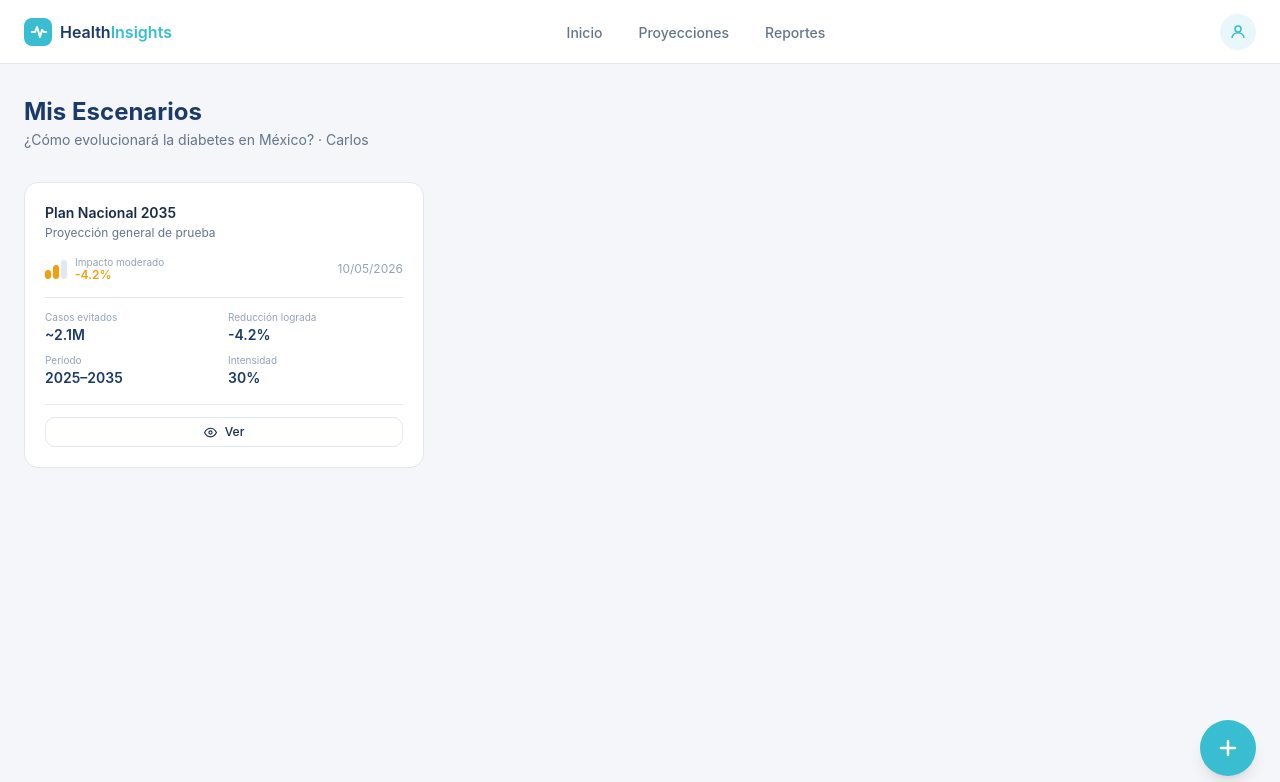
Scenario: GeneralProyeccionesPage › abre el modal de edición con el título pre-llenado
The image size is (1280, 782).
Expected: the heading "Plan Nacional 2035" is shown, [45,204,176,221]
Click the button "Ver". click: (224, 432)
box: [45,417,403,447]
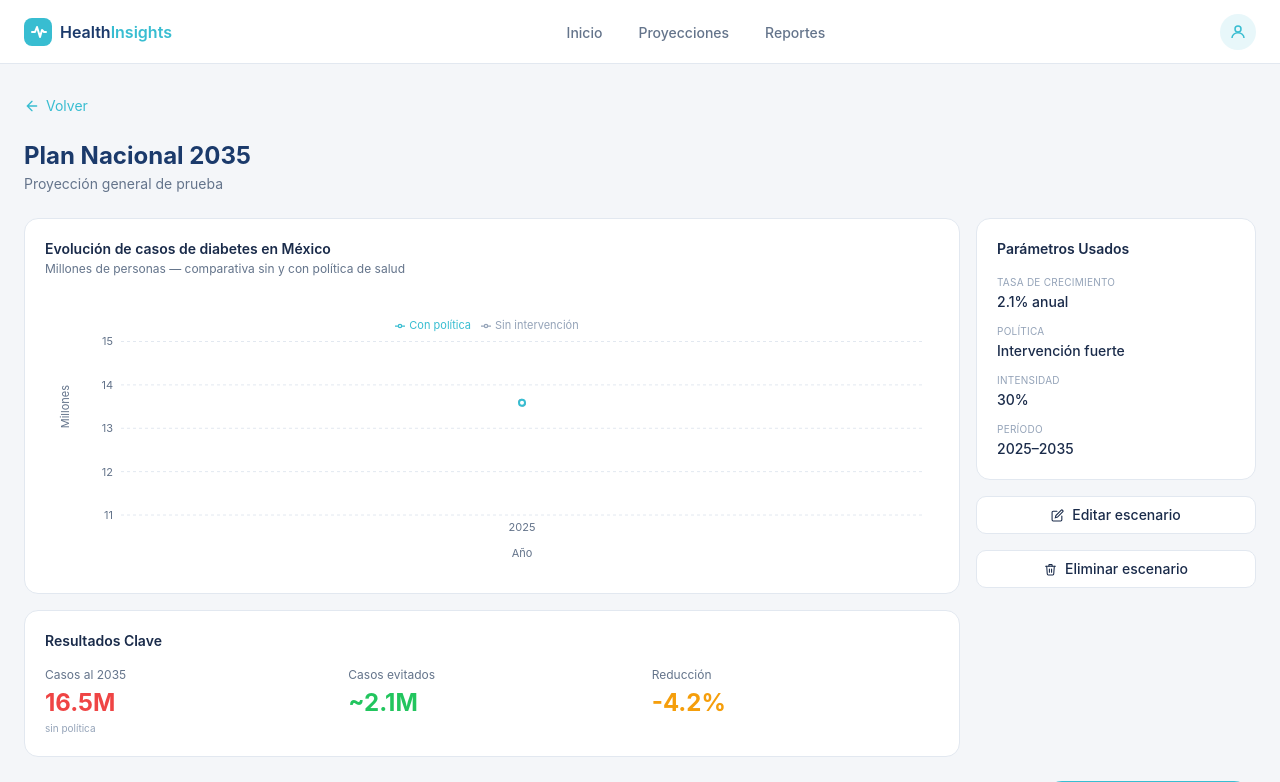
Expected: the button "Editar escenario" is shown
Click the button "Editar escenario". click: (1116, 515)
box: [976,496,1256,534]
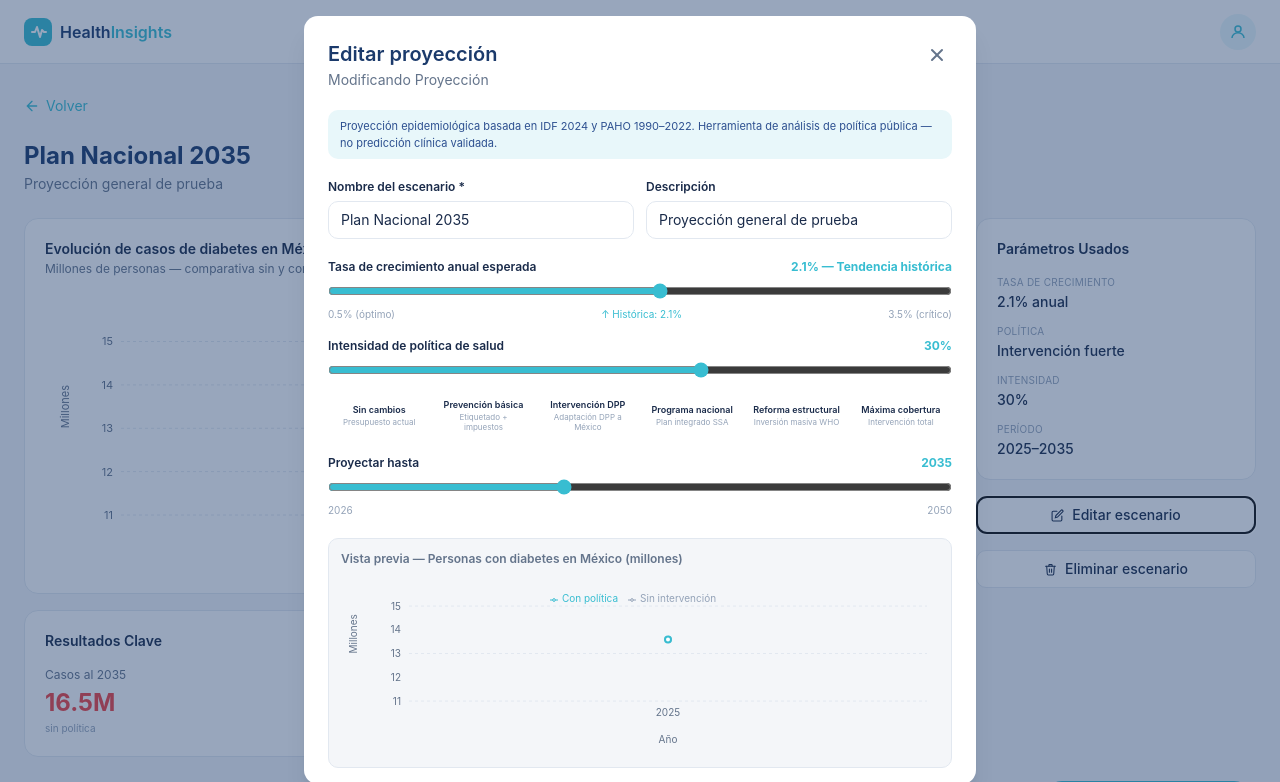
Expected: the heading "Editar proyección" is shown, [328,40,497,68]
Expected: the field showing "Plan Nacional 2035" below "Nombre del escenario *" is shown, [328,201,634,239]
